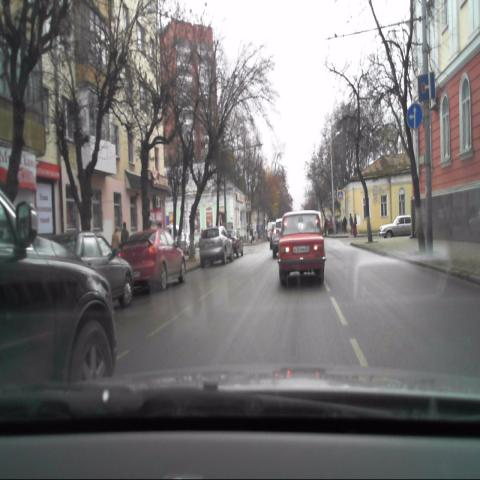4_1_5: (406, 102, 422, 129)
6_8_3: (416, 71, 434, 103)
